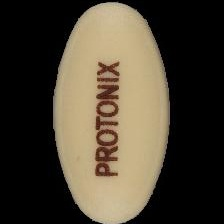43063-261: (0, 0, 224, 224)
